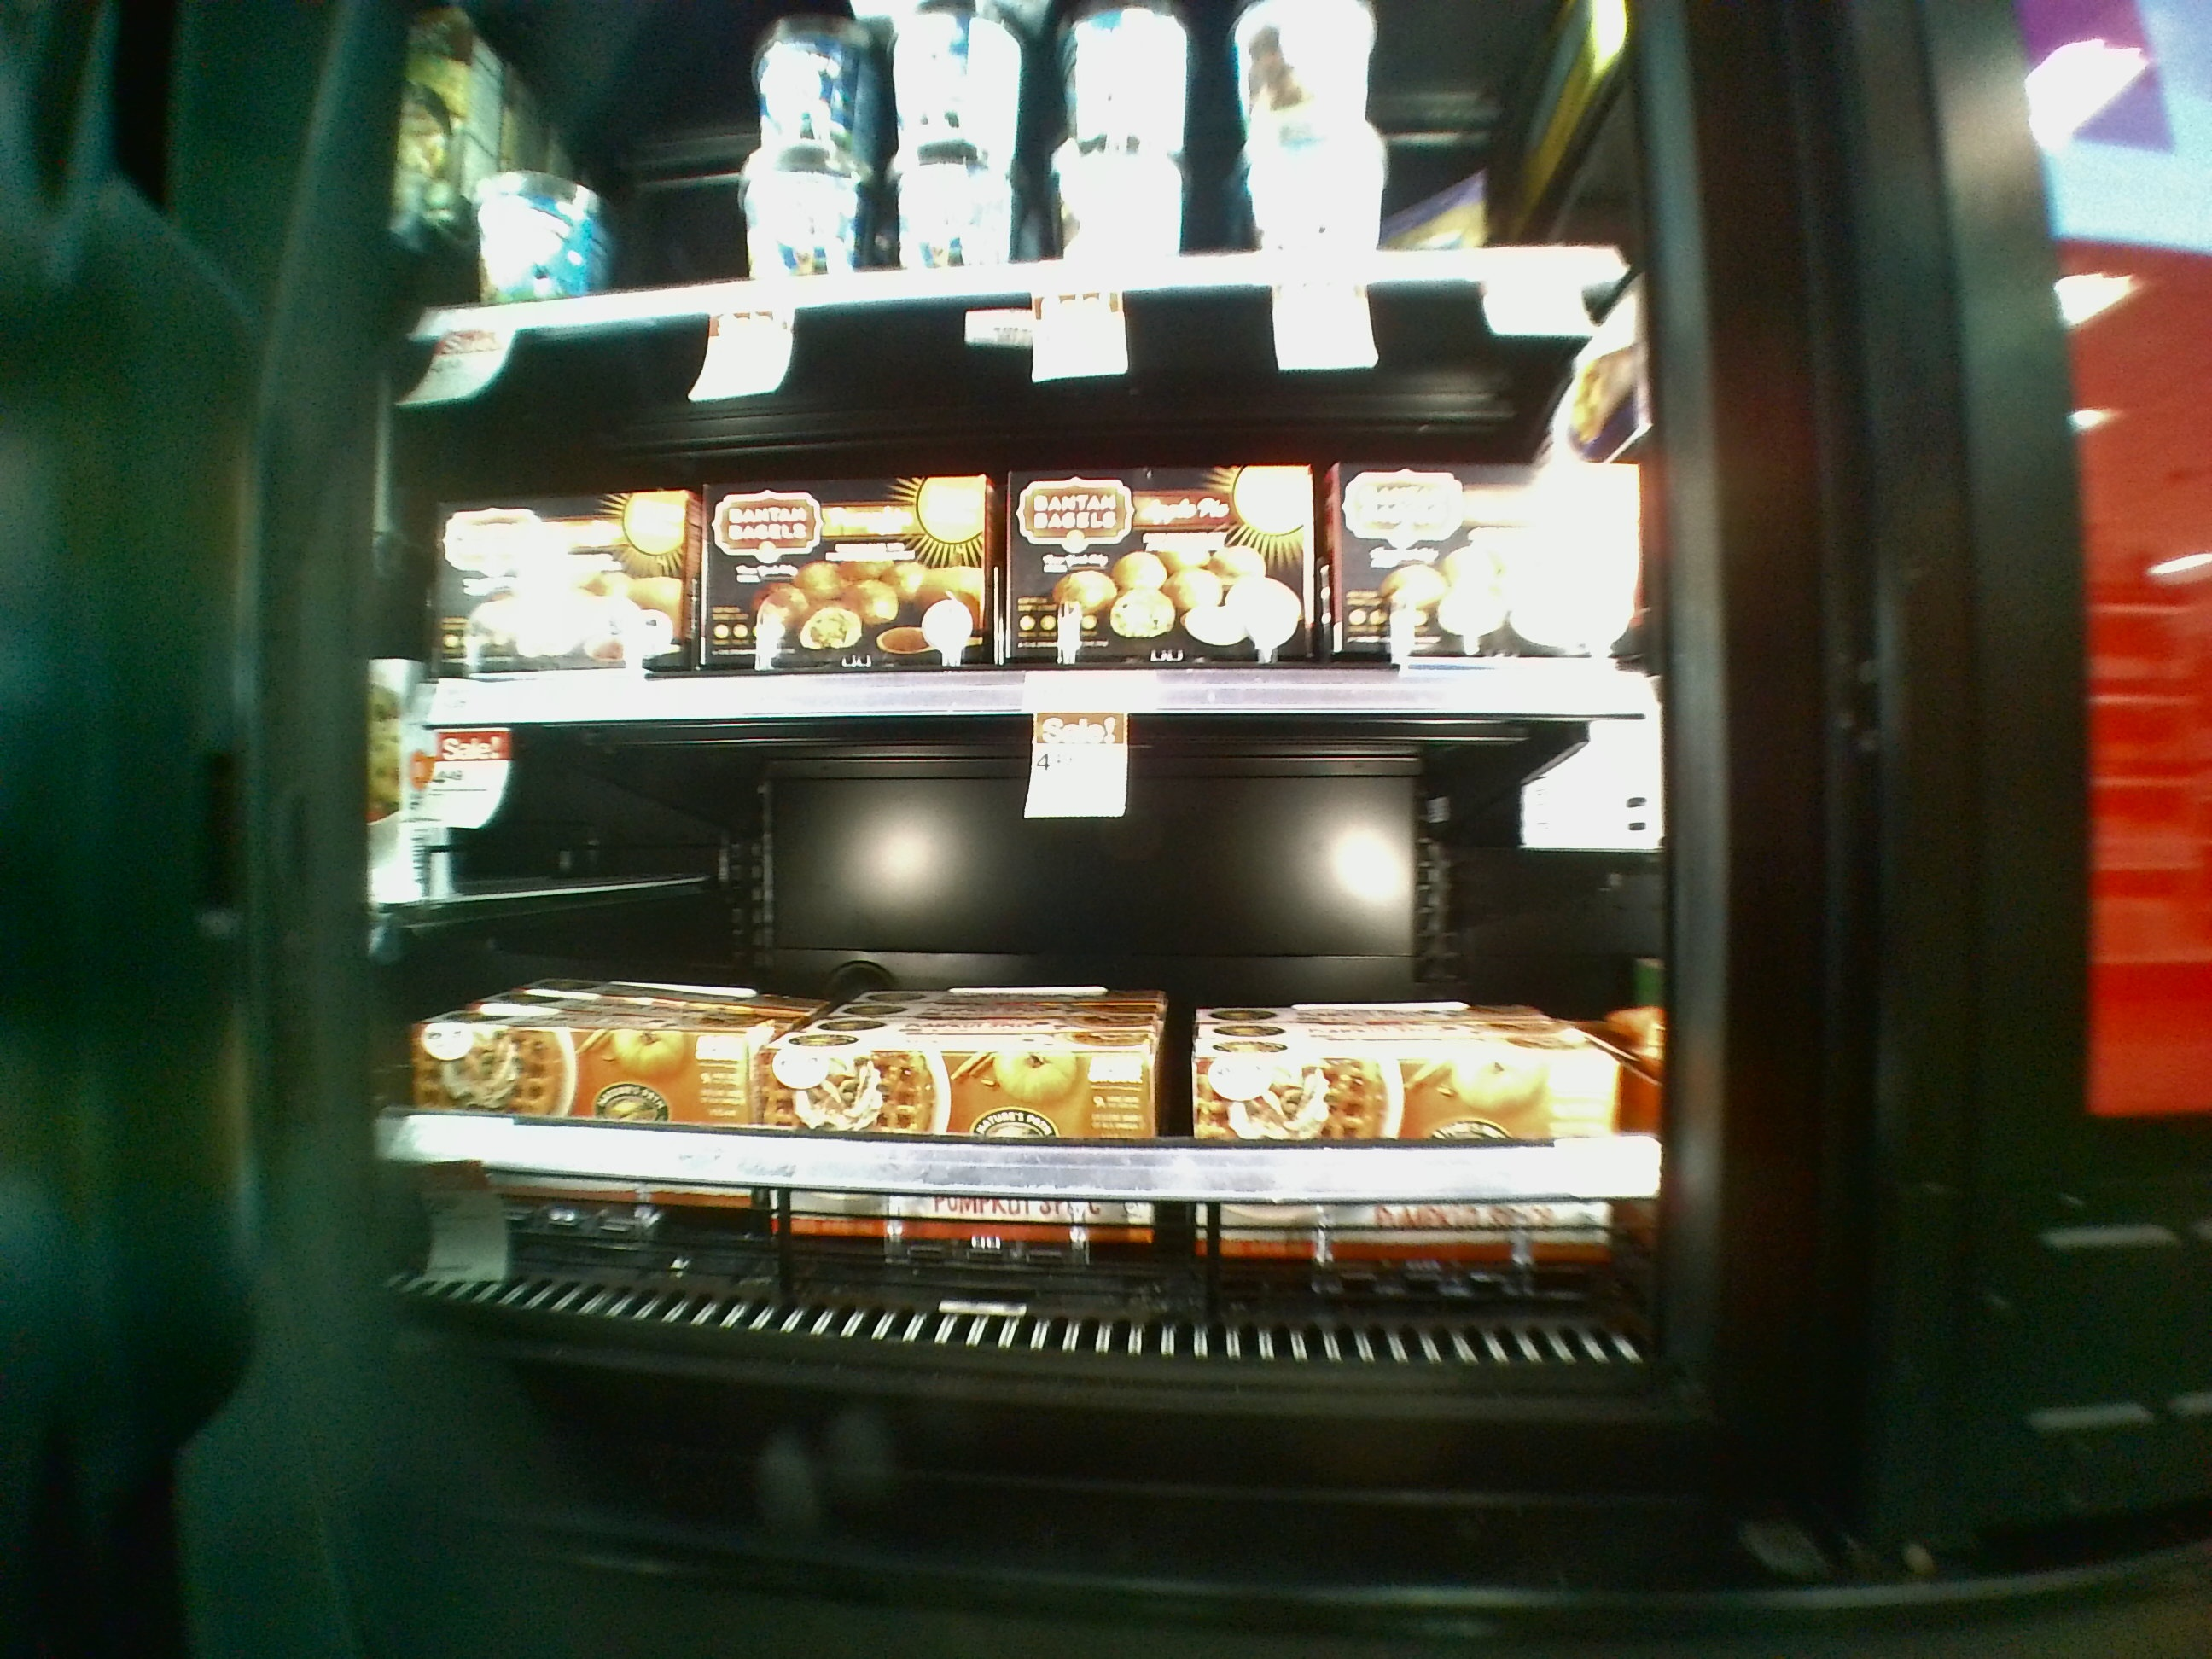shelf: (380, 711, 1688, 1373), (376, 333, 1679, 713)
